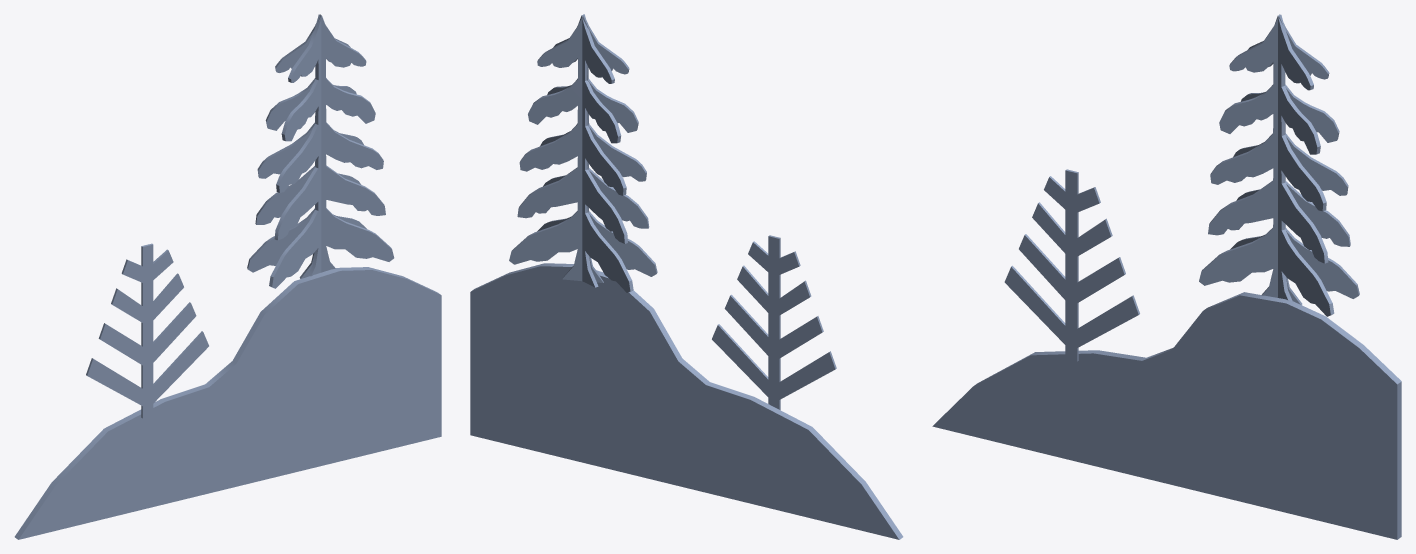
File: frame_0144.glb
3 views of the same model, side by side, from view 1: azimuth 30°, elevation 25°; view 2: azimuth 150°, elevation 25°; view 3: azimuth 330°, elevation 25° (orthographic). The views are drawn at different scales.
Parts seen in each view (by area): view 1: export_trees_001.002; view 2: export_trees_001.002; view 3: export_trees_001.002.
Boxes of the visible parts, x1,y1,x2,y2 form: export_trees_001.002: (14,14,441,539); export_trees_001.002: (470,14,903,539); export_trees_001.002: (932,14,1401,539).
Size of the model in its own units: 0.2609 by 0.2619 by 0.0288.
